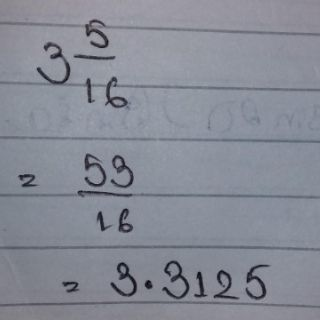.: (142, 277, 154, 290)
1: (192, 269, 209, 299), (93, 209, 112, 233), (83, 74, 97, 104)
2: (213, 269, 241, 300)
3: (34, 39, 72, 85), (161, 260, 191, 300), (108, 261, 138, 298), (109, 154, 134, 189)
5: (245, 263, 272, 300), (81, 151, 107, 188), (84, 18, 111, 49)
6: (104, 75, 129, 110), (117, 207, 136, 235)
